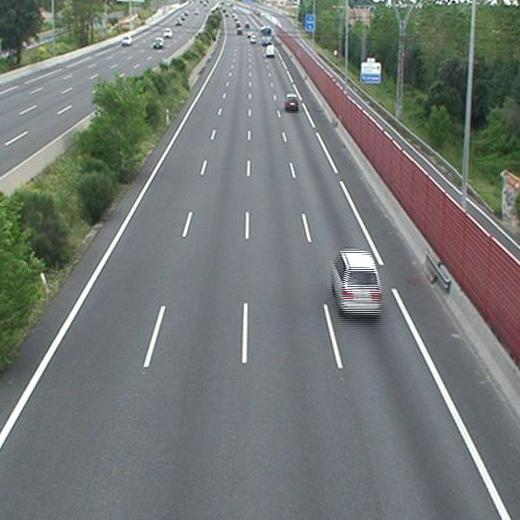car: (333, 251, 382, 314), (285, 96, 298, 109)
van: (266, 45, 274, 56)
